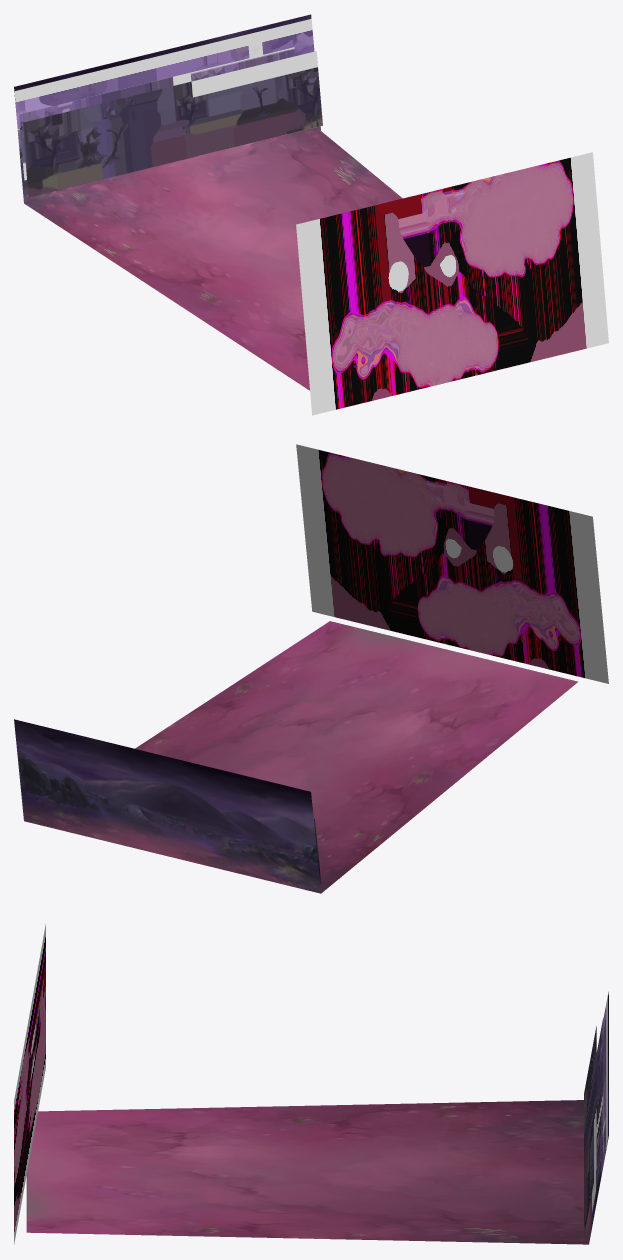
File: BATTLE_Scene6.FBX
3 renders of one model, top to bottom at view 1: azimuth 30°, elevation 25°; view 2: azimuth 150°, elevation 25°; view 3: azimuth 270°, elevation 25°, orthographic.
Parts seen in each view (by area): view 1: t_scene_6_6, t_scene_6_1, t_scene_6_2, t_scene_6_5, t_scene_6_4; view 2: t_scene_6_1, t_scene_6_6; view 3: t_scene_6_1, t_scene_6_6, t_scene_6_2, t_scene_6_4, t_scene_6_5.
Boxes of the visible parts, x1,y1,x2,y2 form: t_scene_6_6: [296, 152, 608, 415]; t_scene_6_1: [14, 14, 402, 390]; t_scene_6_2: [22, 51, 322, 197]; t_scene_6_5: [14, 19, 314, 129]; t_scene_6_4: [18, 47, 295, 180]; t_scene_6_1: [14, 621, 578, 893]; t_scene_6_6: [296, 444, 608, 683]; t_scene_6_1: [26, 992, 608, 1244]; t_scene_6_6: [14, 924, 45, 1244]; t_scene_6_2: [584, 1026, 596, 1235]; t_scene_6_4: [592, 1018, 603, 1211]; t_scene_6_5: [601, 995, 607, 1174].
Bounding box in the file's own units: 958 × 552 × 1665.
6 materials, 6 textured.
